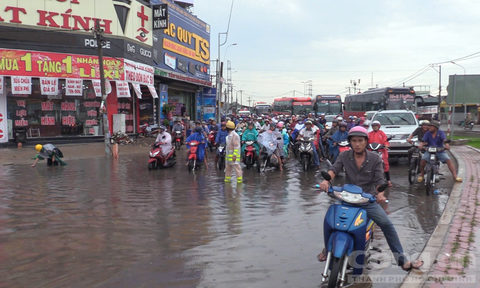police: (216, 116, 249, 188)
